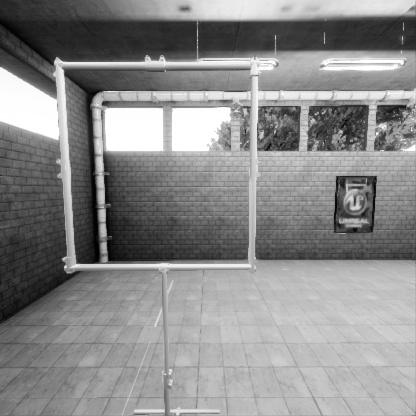gate: (53, 150, 276, 368)
